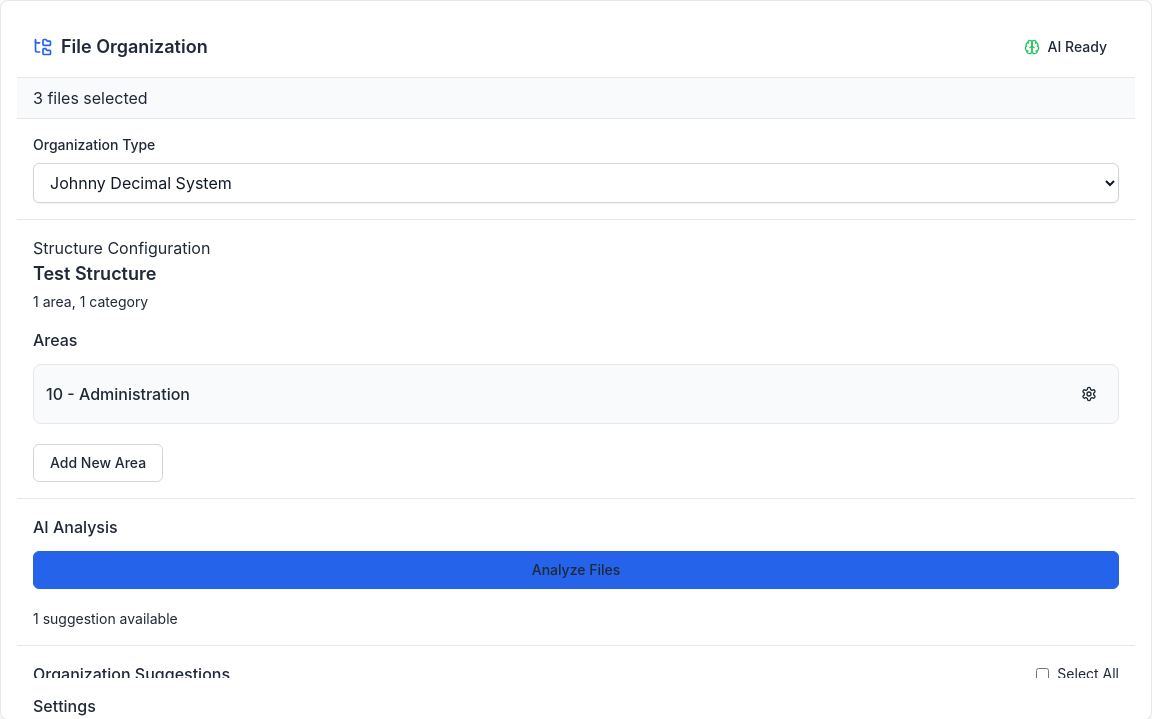
OrganizationPanel Component › Structure Configuration › validates structure changes
Click the button named "edit area" at (1089, 394), box [1072, 377, 1106, 411]
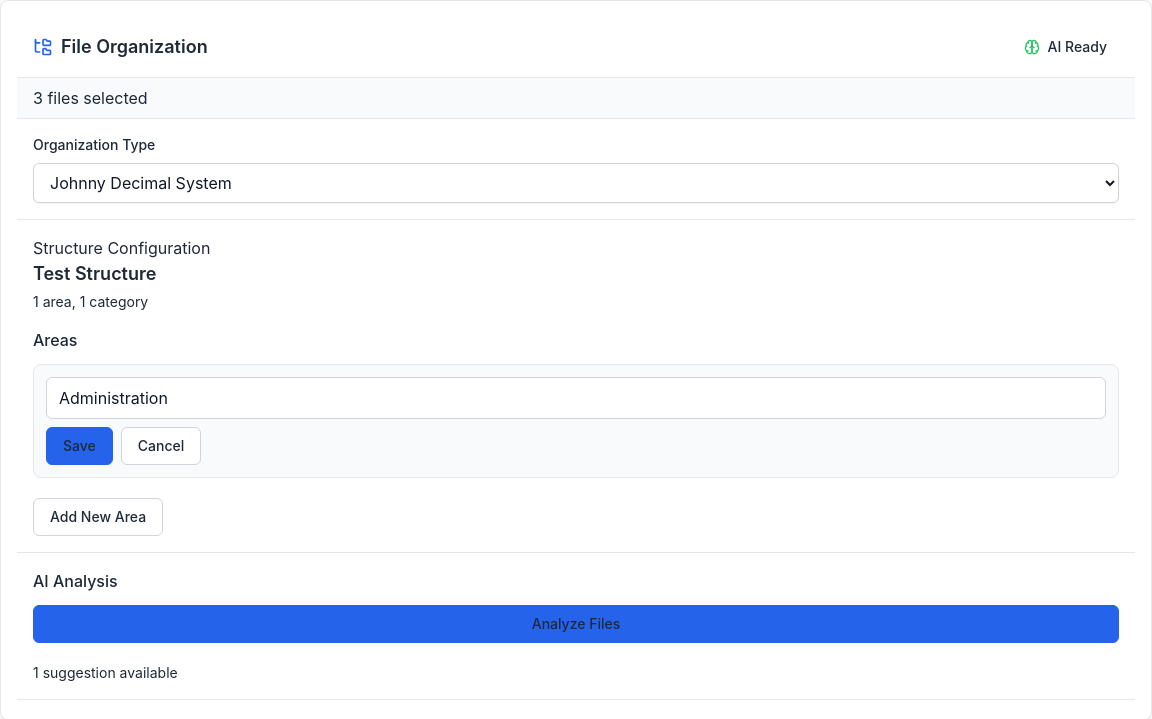
Clear the field showing "Administration" at (576, 398), box [46, 377, 1106, 419]
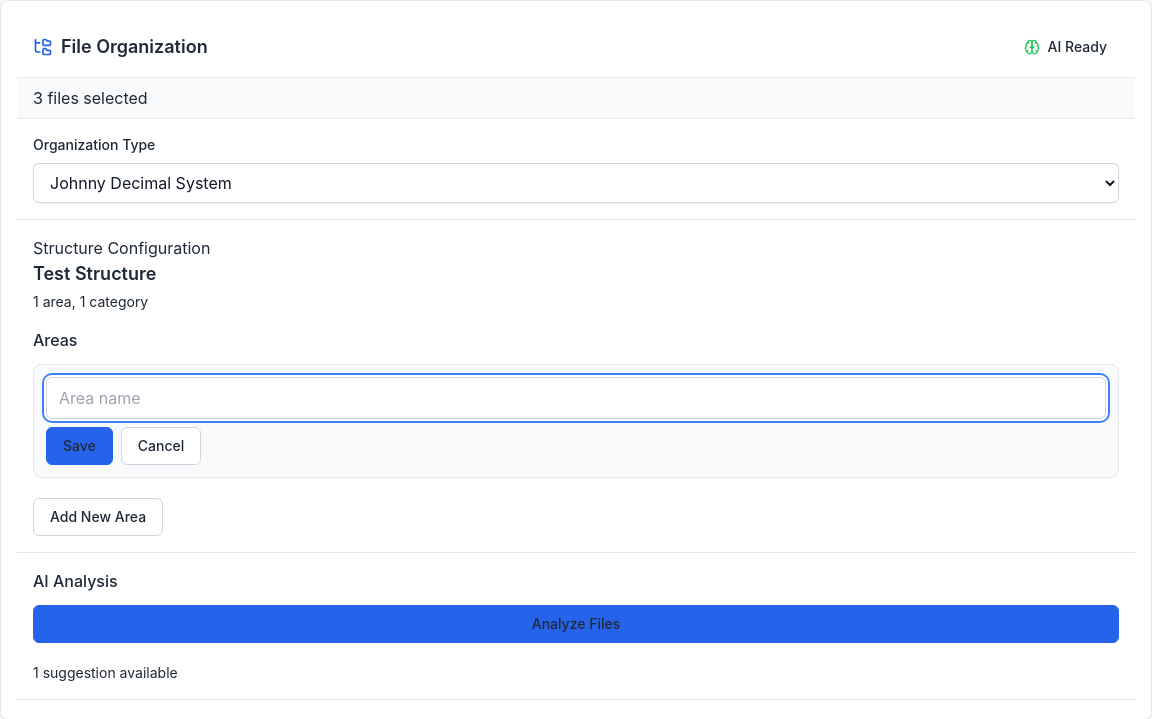
Click the button "Save" at (79, 446), box [46, 427, 113, 465]
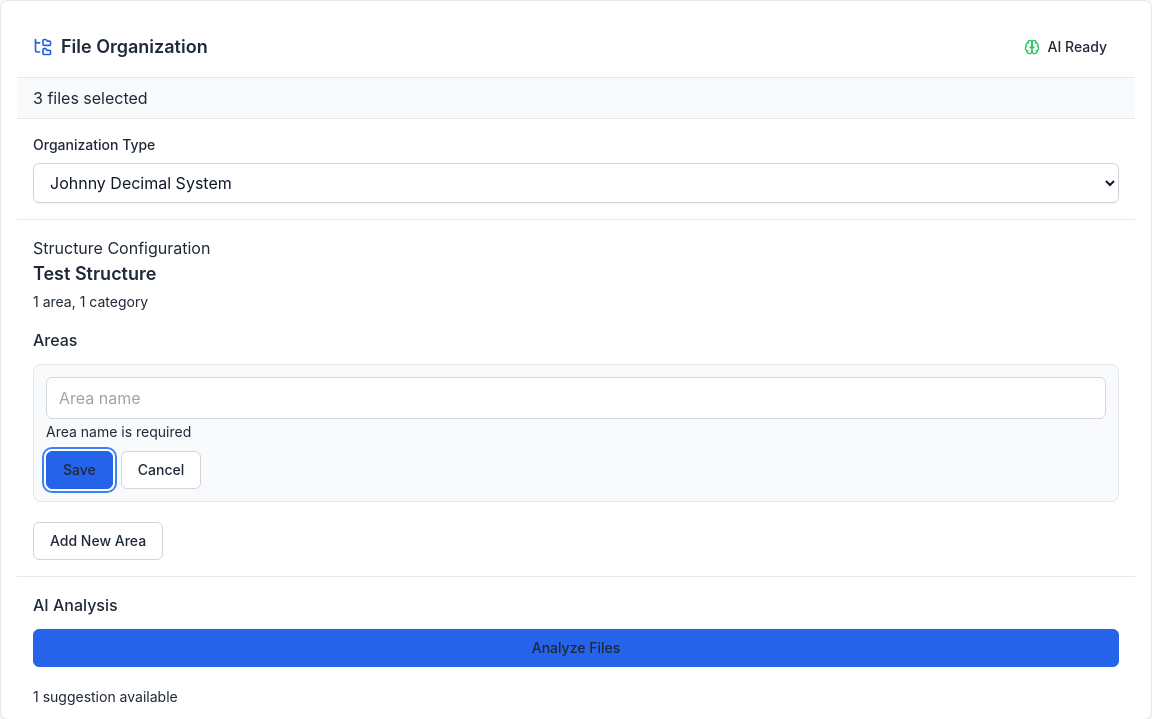
Check: the text "Area name is required" is shown, box [46, 423, 191, 440]
